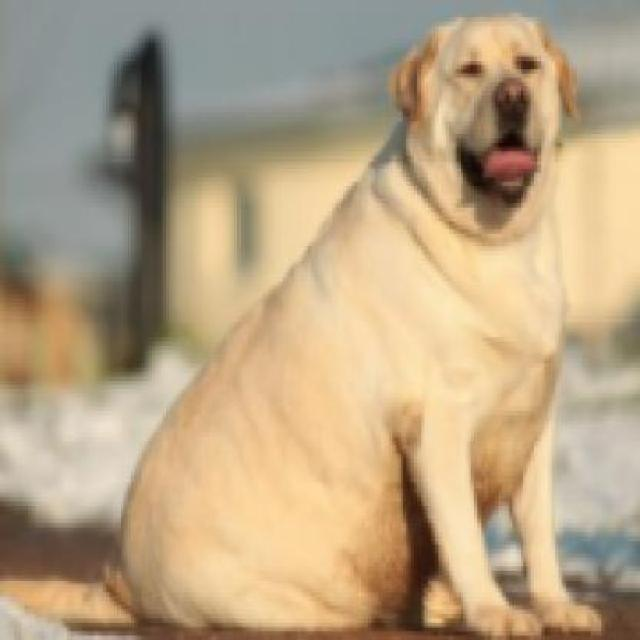Dog: (3, 3, 606, 639)
